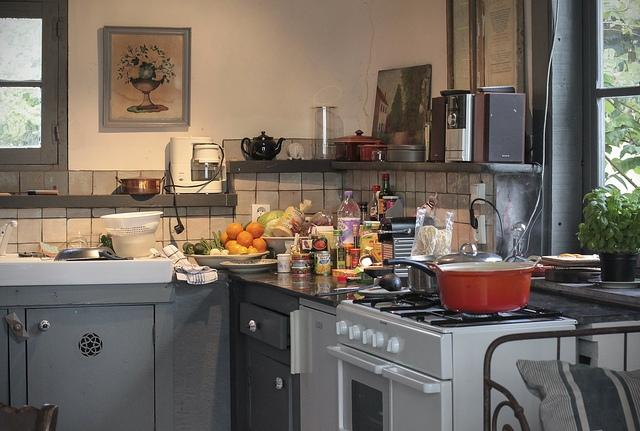orange: (226, 223, 244, 240), (246, 223, 264, 240), (236, 232, 254, 248), (252, 238, 266, 253), (220, 231, 232, 247), (228, 244, 242, 255), (237, 246, 250, 255)
